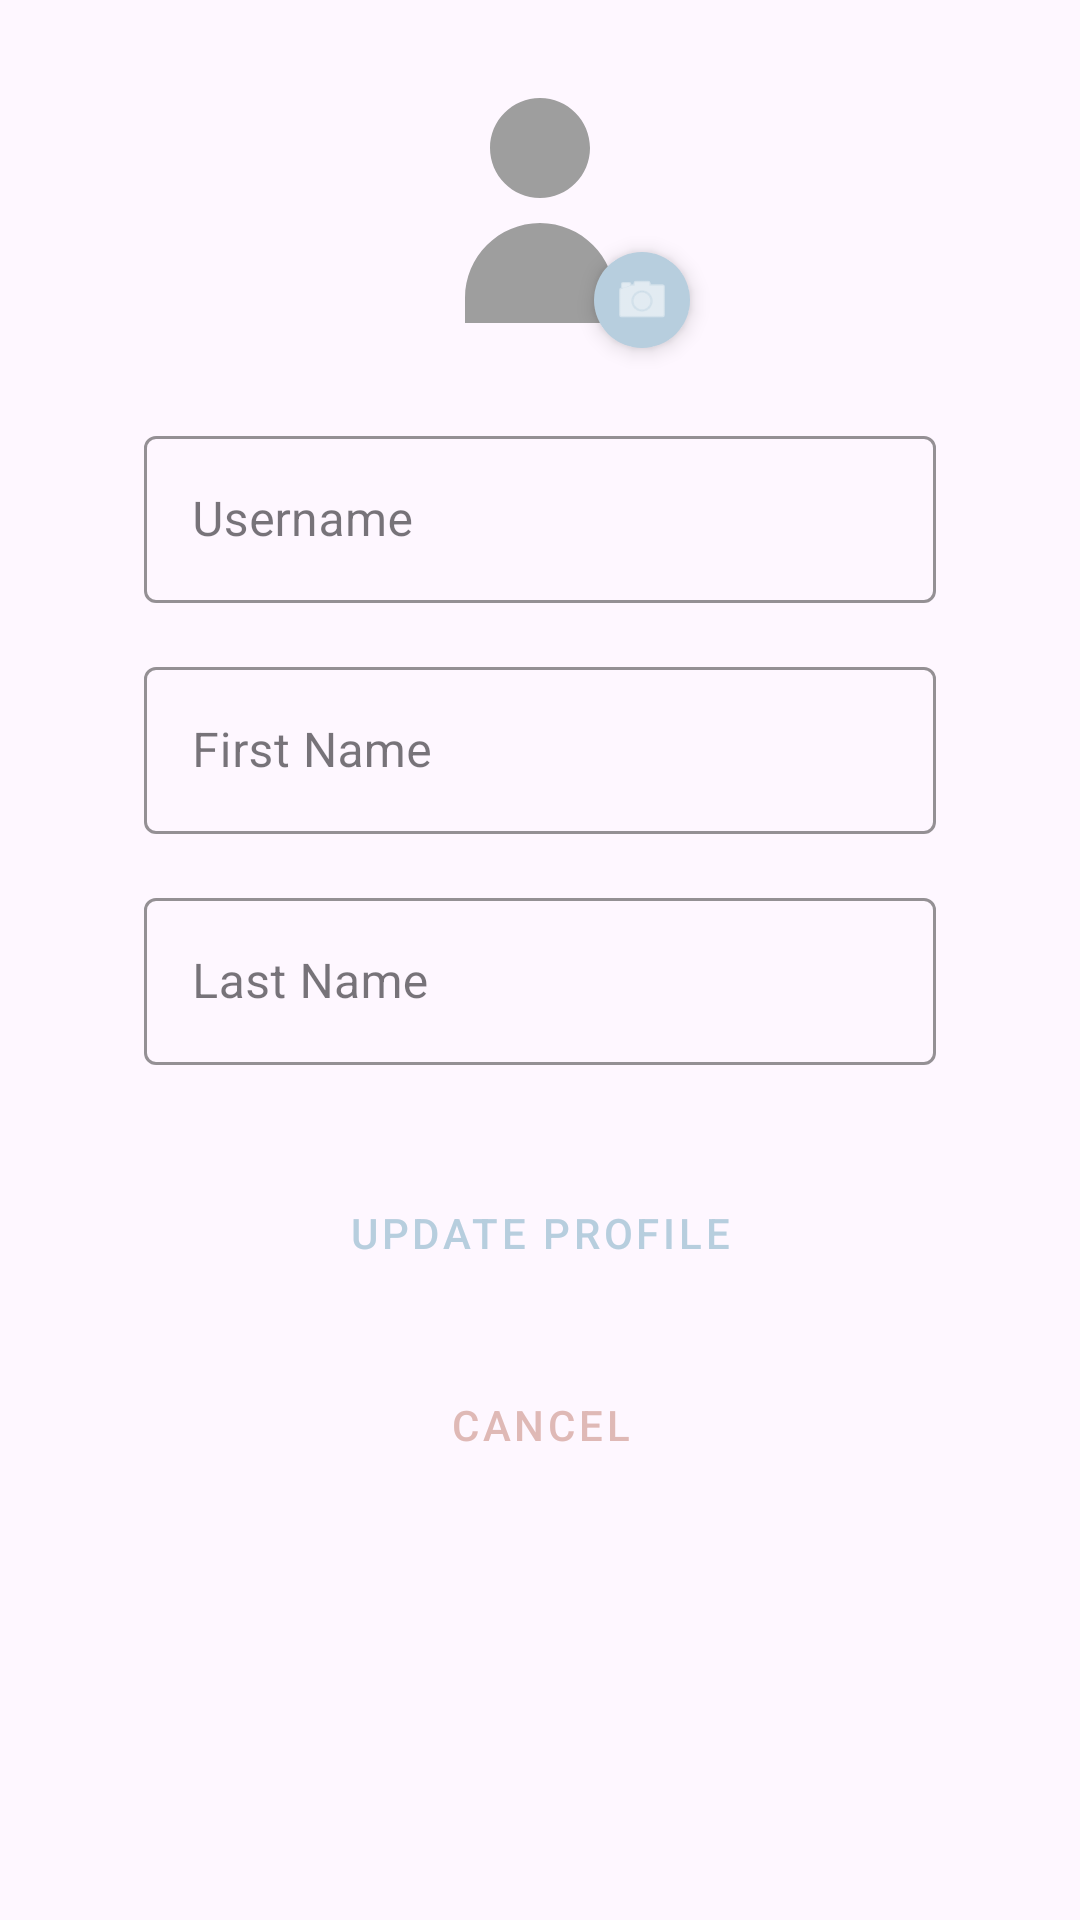

Icon bounding boxes for this 1080*1920 phone screenshot, format bbox(x1, y1, x2, y2):
Change Photo: bbox(594, 252, 690, 348)
